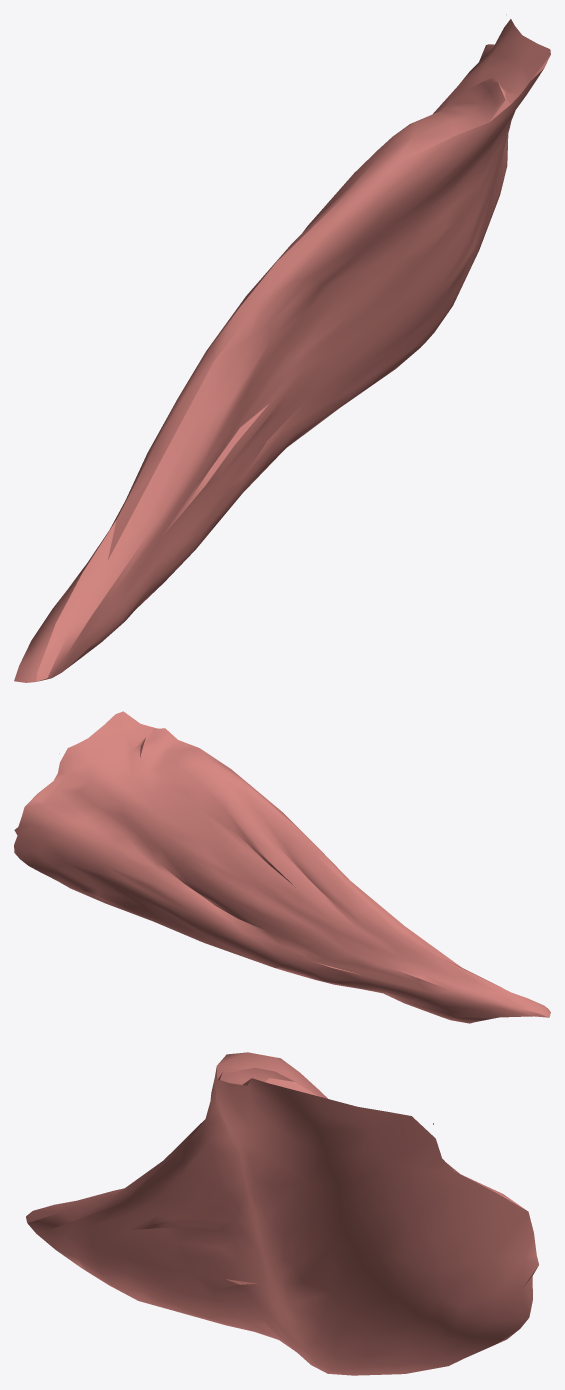
File: fma22340_mm1673m.glb
The picture shows the model from 3 angles, top to bottom: view 1: azimuth 30°, elevation 25°; view 2: azimuth 150°, elevation 25°; view 3: azimuth 270°, elevation 25°; orthographic projection. The views are drawn at different scales.
Parts seen in each view (by area): view 1: FMA22340_MM1673M; view 2: FMA22340_MM1673M; view 3: FMA22340_MM1673M.
Part boxes in pixels (x1,y1,x2,y2): FMA22340_MM1673M: (14, 14, 550, 682); FMA22340_MM1673M: (14, 711, 550, 1023); FMA22340_MM1673M: (26, 1052, 538, 1375).
Size of the model in its own units: 0.1107 by 0.066 by 0.0592.
